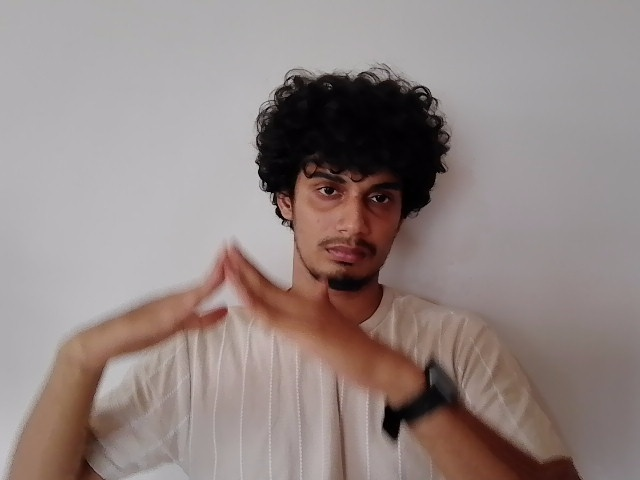home: (57, 239, 397, 390)
